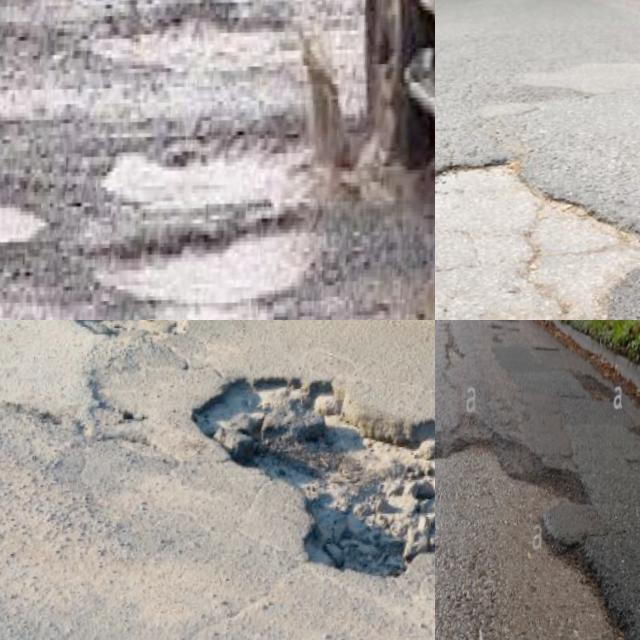Potholes: (125, 320, 435, 640), (435, 381, 640, 640), (435, 102, 640, 320), (68, 119, 313, 293), (99, 203, 339, 320), (96, 0, 318, 115), (435, 422, 521, 640), (43, 320, 208, 382), (347, 236, 435, 320), (0, 151, 59, 274), (0, 0, 79, 53)
